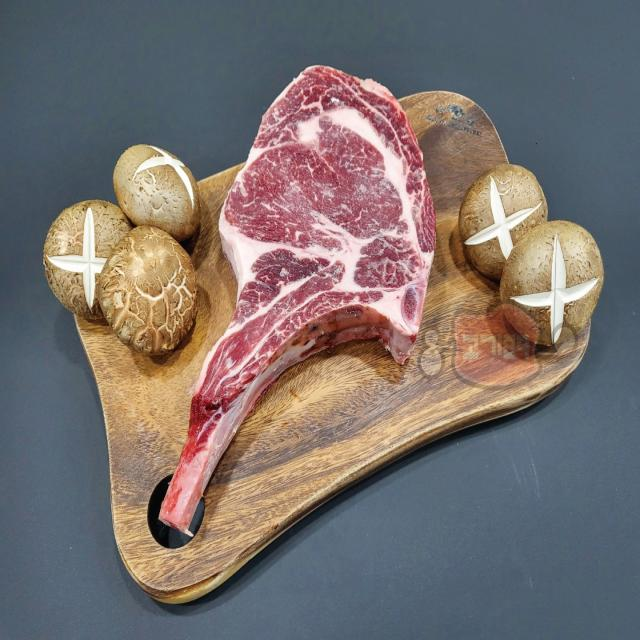beef: (254, 88, 415, 365)
